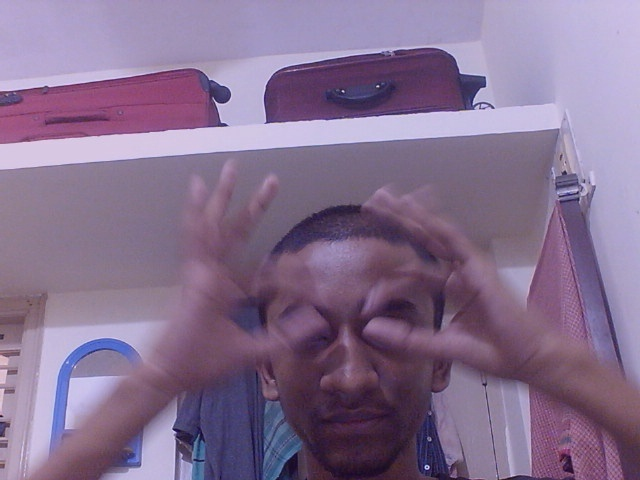hand: (354, 175, 550, 388), (161, 160, 333, 381)
